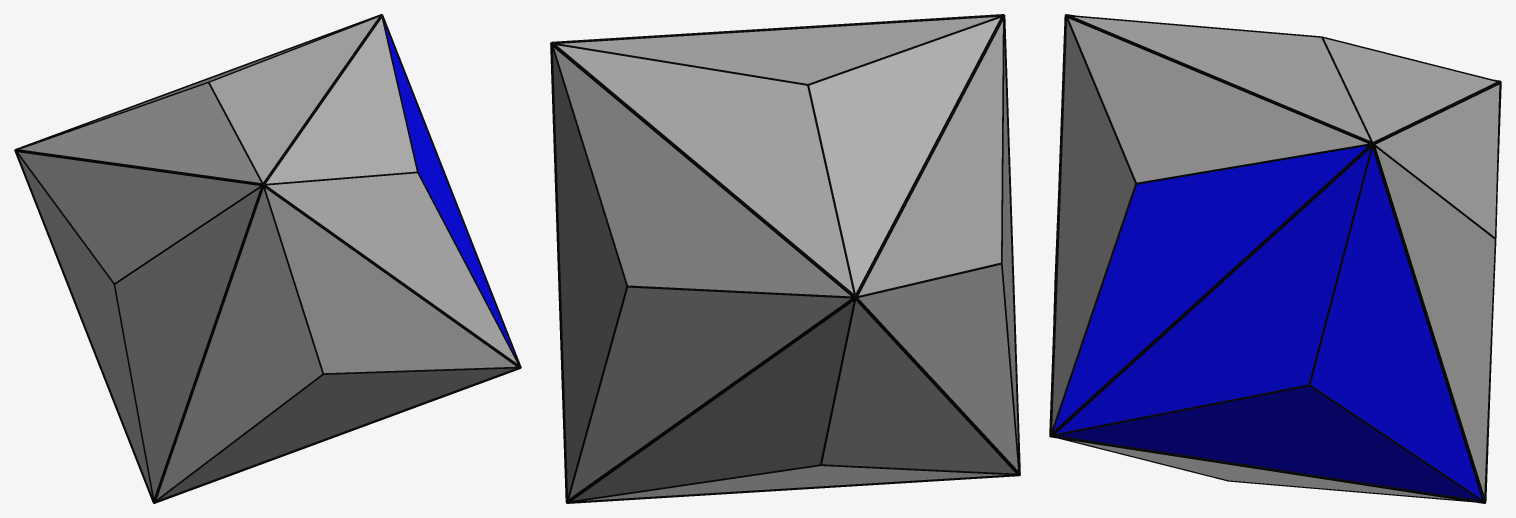
File: TriakisOctahedron3.glb
The picture shows the model from 3 angles, left to right: view 1: azimuth 30°, elevation 25°; view 2: azimuth 150°, elevation 25°; view 3: azimuth 270°, elevation 25°; orthographic projection. The views are drawn at different scales.
Size of the model in its own units: 3.4 by 3.39 by 3.39.
